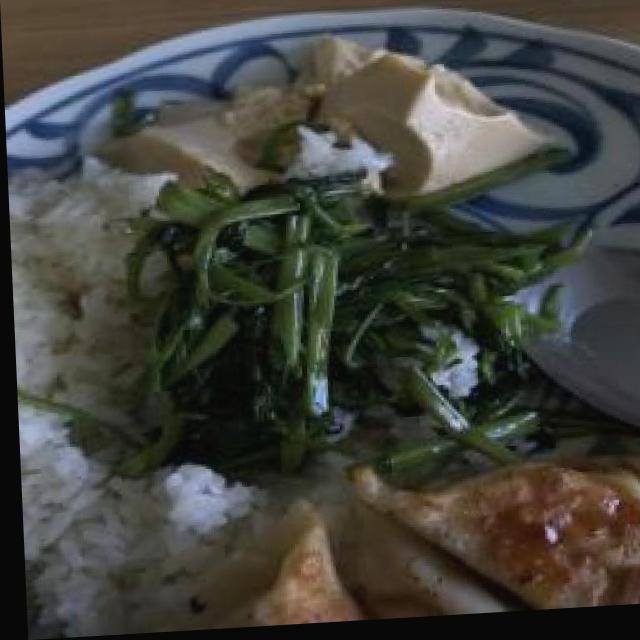fried_dumplings: (242, 467, 640, 630)
rice: (16, 174, 155, 633)
water_spinach: (161, 219, 462, 458)
